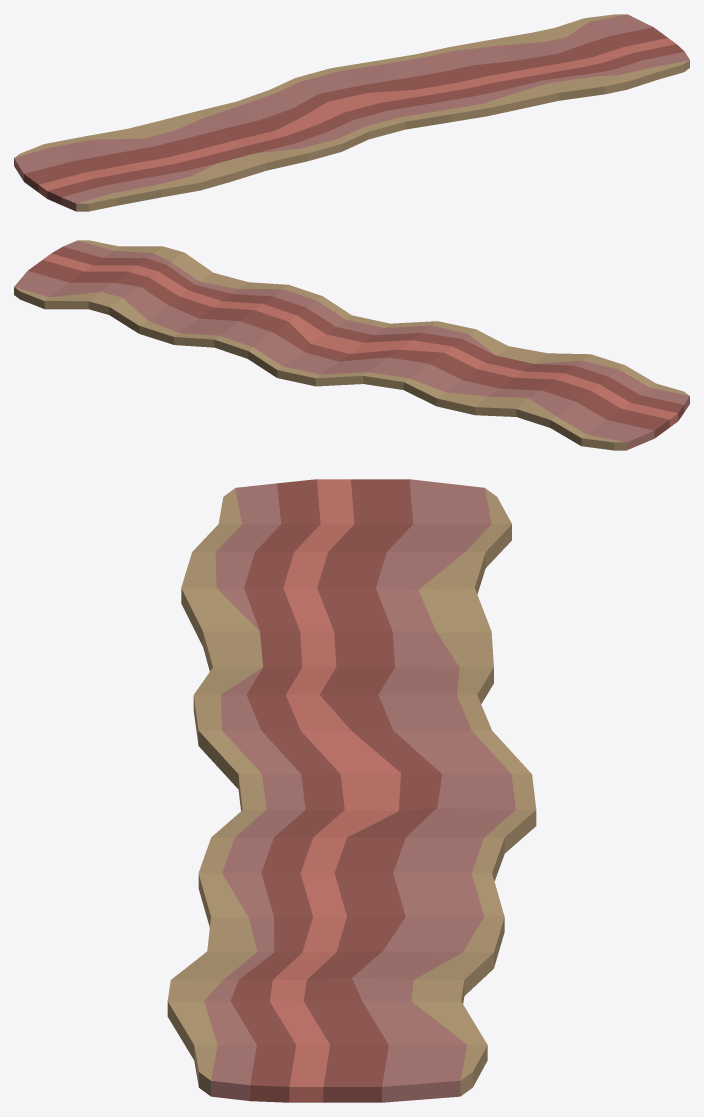
Rendered from bacon_uncooked.glb.
3 renders of one model, top to bottom at view 1: azimuth 30°, elevation 25°; view 2: azimuth 150°, elevation 25°; view 3: azimuth 270°, elevation 25°, orthographic. The views are drawn at different scales.
Parts seen in each view (by area): view 1: Bacon_Uncooked; view 2: Bacon_Uncooked; view 3: Bacon_Uncooked.
Boxes of the visible parts, box(x1,y1,x2,y2) form: Bacon_Uncooked: box(14, 14, 689, 211); Bacon_Uncooked: box(14, 240, 689, 450); Bacon_Uncooked: box(167, 479, 536, 1102).
Bounding box in the file's own units: 1.16 × 0.0213 × 0.2968.
